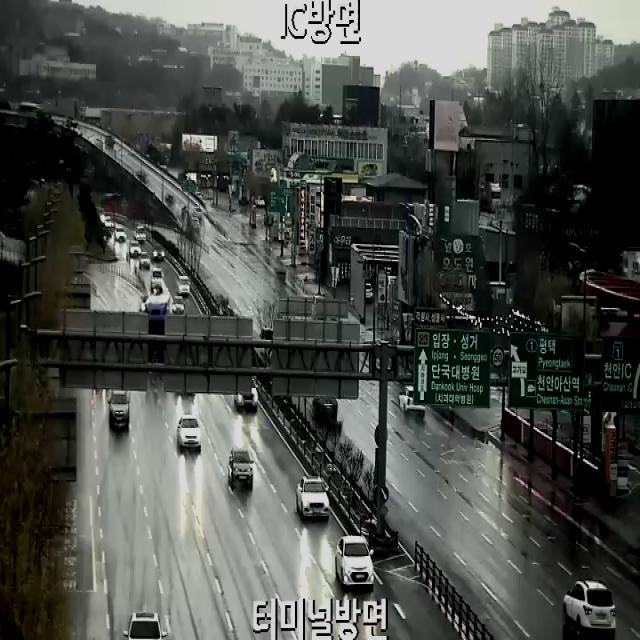Bus: (141, 294, 171, 362)
Car: (562, 580, 616, 640), (336, 536, 375, 585), (296, 477, 330, 517), (228, 447, 254, 481), (177, 416, 202, 448), (398, 387, 425, 412), (234, 381, 258, 407), (110, 391, 129, 423), (312, 396, 338, 414), (151, 269, 163, 291), (172, 295, 184, 314), (177, 276, 189, 294), (129, 240, 141, 257), (115, 227, 126, 242), (135, 226, 145, 242), (153, 247, 165, 260), (365, 283, 373, 301), (140, 256, 150, 268), (192, 217, 200, 229)
Truck: (124, 612, 166, 640)
